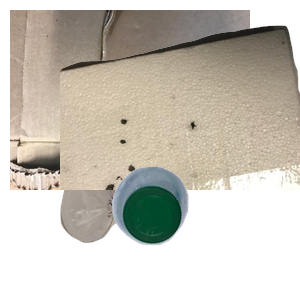cardboard: (10, 10, 250, 190)
glass: (58, 170, 202, 300)
plastic: (110, 164, 300, 300)
trash: (60, 23, 300, 203)
